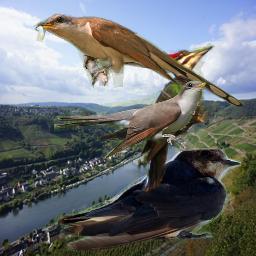Cuckoo: (31, 13, 245, 108), (54, 80, 206, 158)
Swallow: (57, 148, 241, 251)
Woodpecker: (139, 43, 218, 193)
